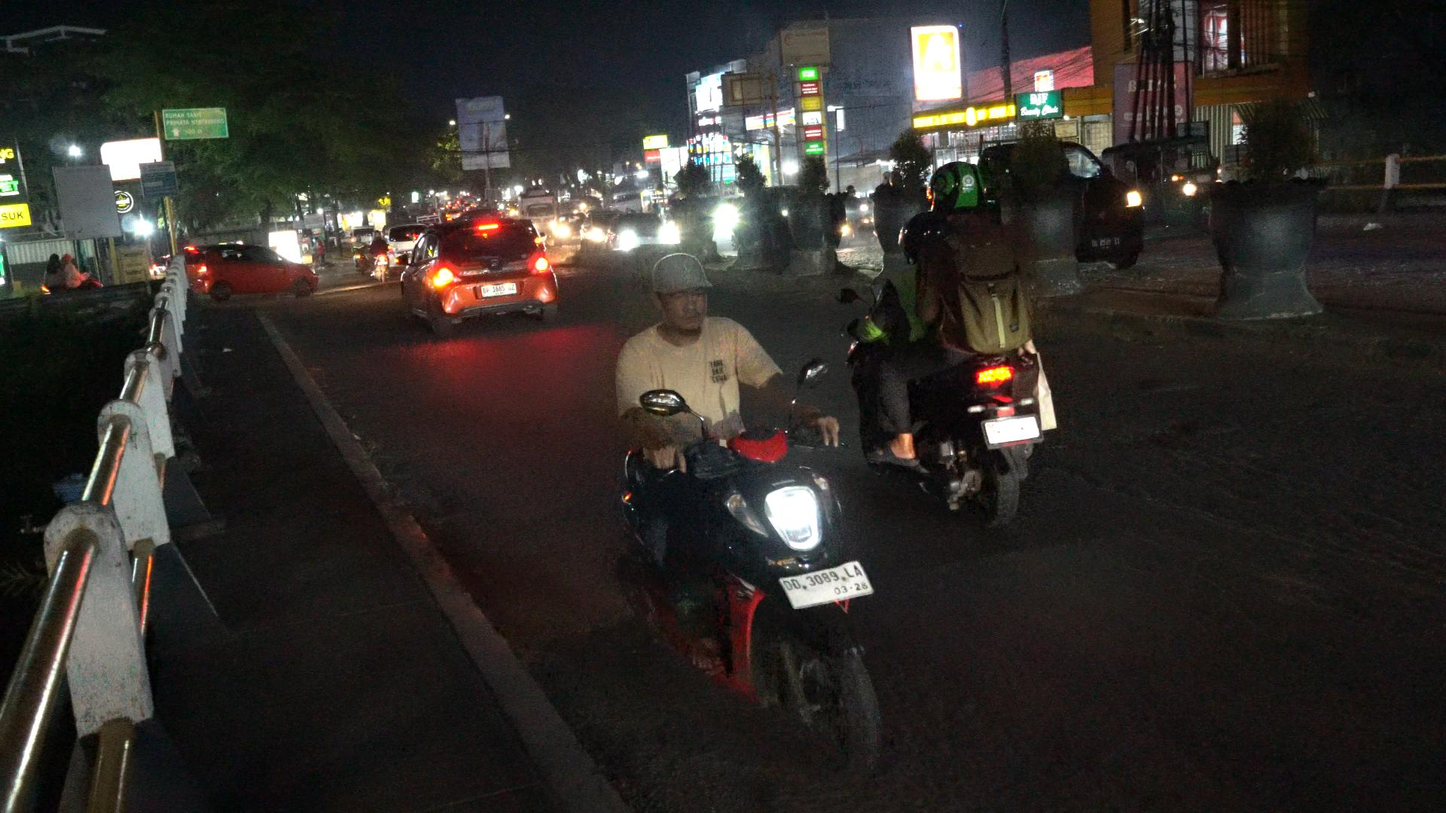number-plate: (777, 557, 879, 609)
